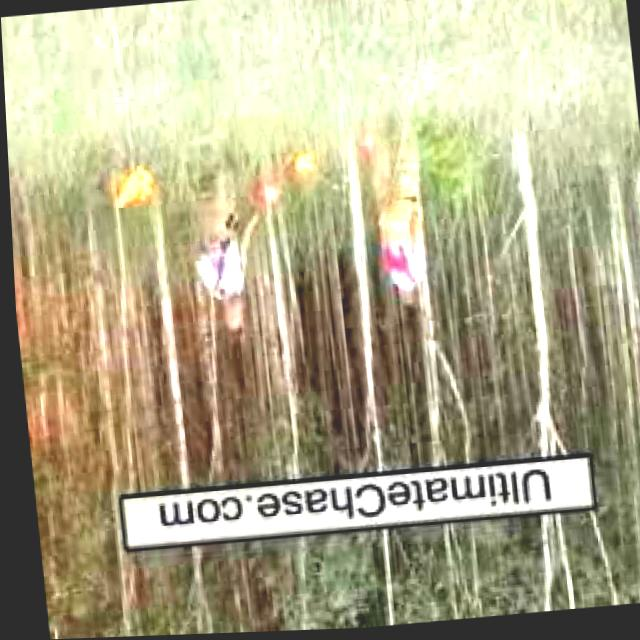Fire: (106, 164, 155, 204), (253, 177, 287, 208), (289, 148, 316, 176), (359, 131, 374, 155)
